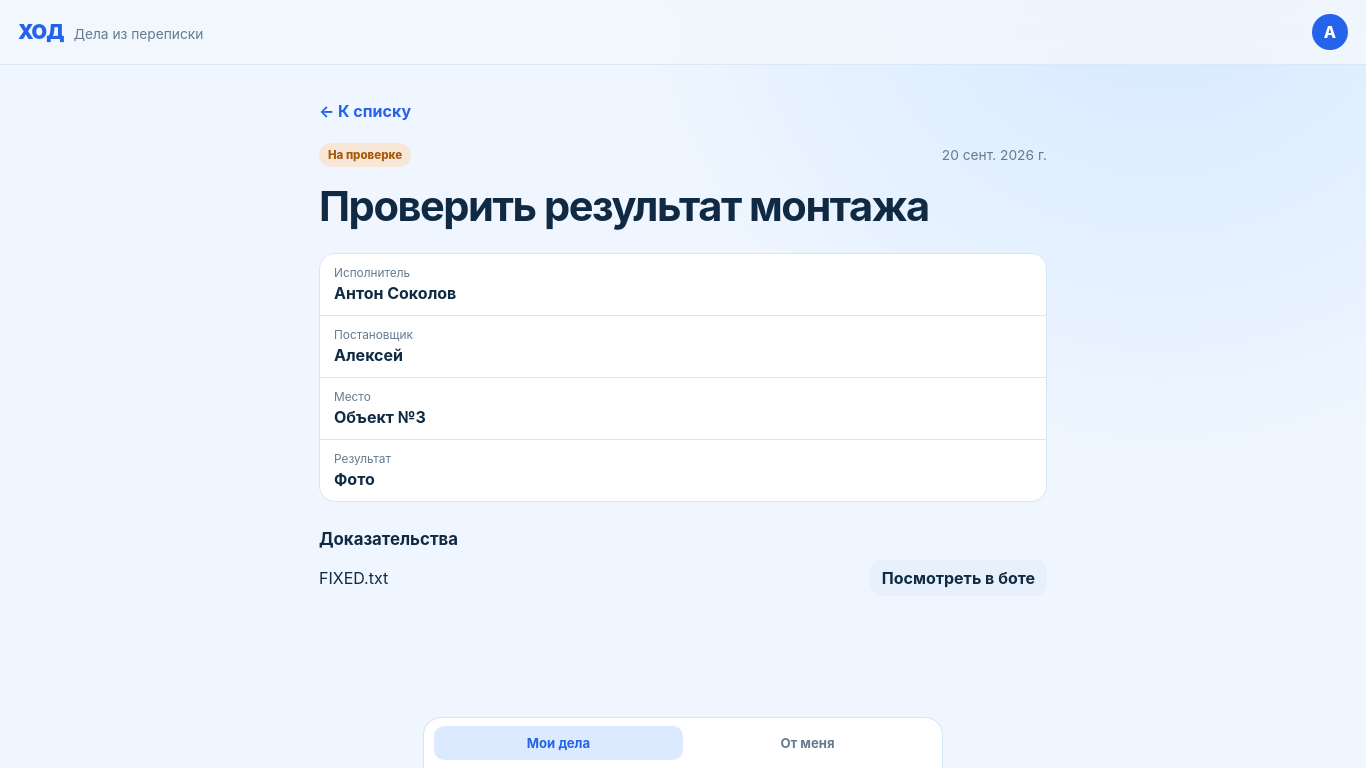
Test: Mini App › shows an error if the bot cannot receive a phone attachment
Click the button with aria-label "Посмотреть FIXED.txt в боте".
click(958, 578)  # box top-left (870, 560), bottom-right (1047, 596)
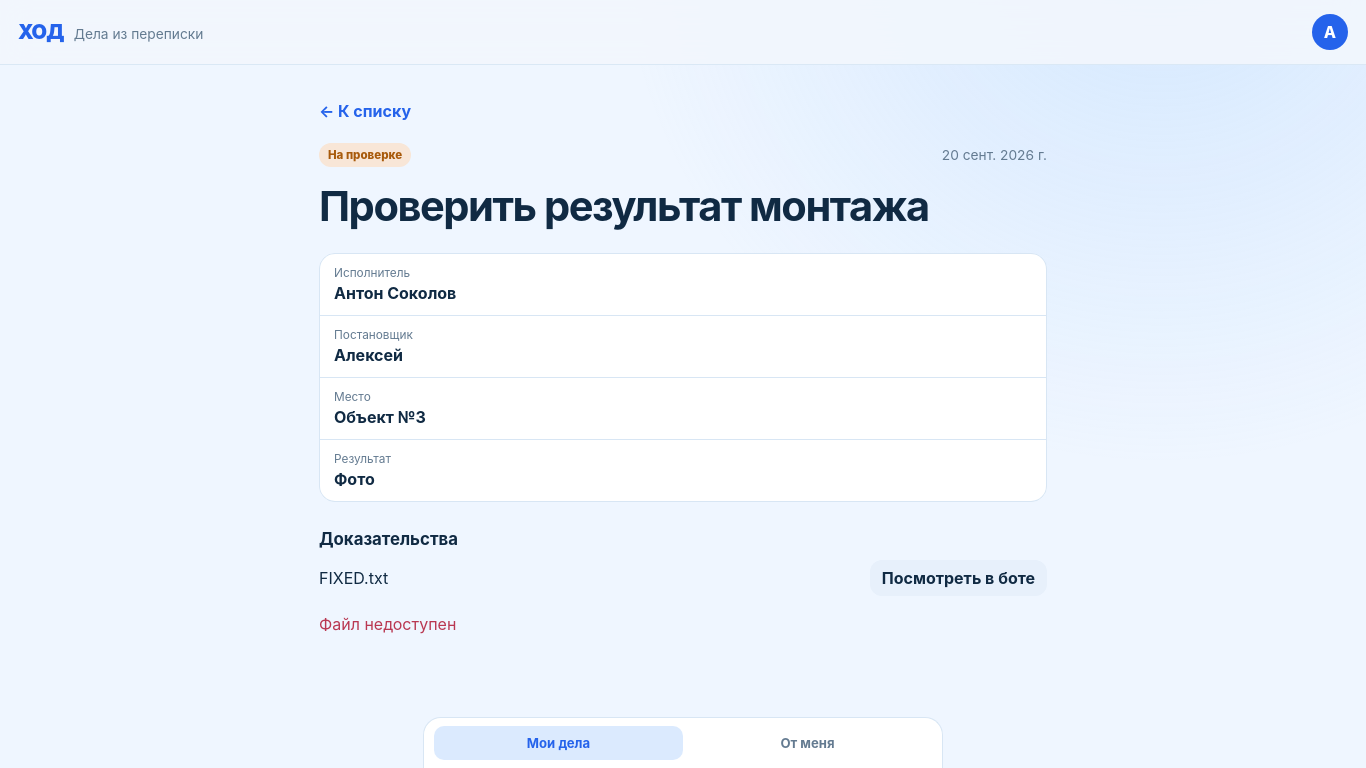
Now the text "Файл недоступен" is shown, box top-left (319, 614), bottom-right (456, 634)
